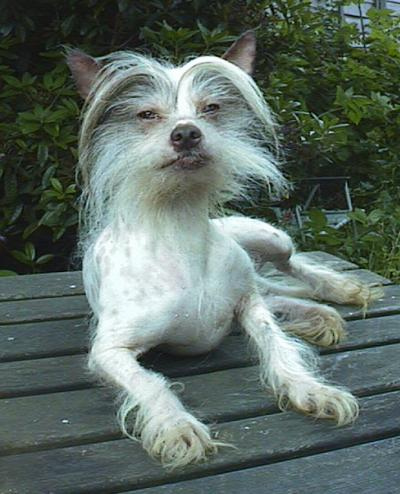dog: (73, 47, 383, 476)
